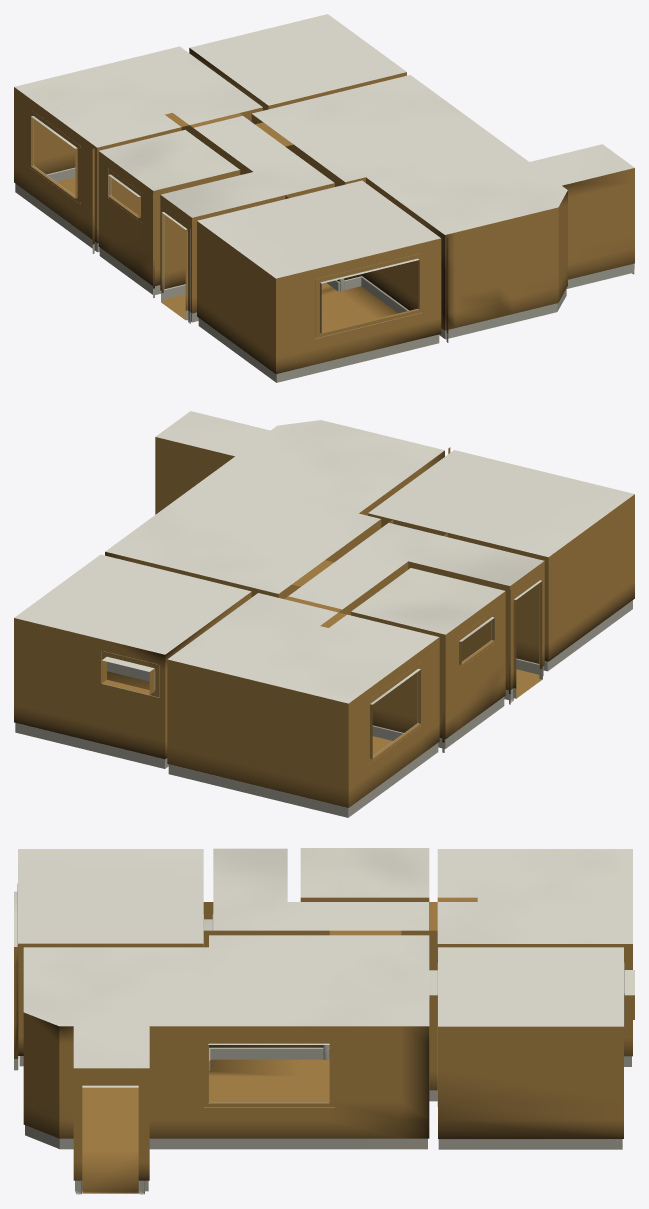
The model's file is CasaFlashback.fbx.
The picture shows the model from 3 angles, top to bottom: view 1: azimuth 30°, elevation 25°; view 2: azimuth 150°, elevation 25°; view 3: azimuth 270°, elevation 25°; orthographic projection. The views are drawn at different scales.
Visible parts, largest first — view 1: casa; view 2: casa; view 3: casa.
Boxes of the visible parts, left/top/right/bottom form: casa: left=14, top=14, right=634, bottom=382; casa: left=14, top=411, right=634, bottom=817; casa: left=14, top=848, right=634, bottom=1194.
Size of the model in its own units: 571 by 150 by 669.
